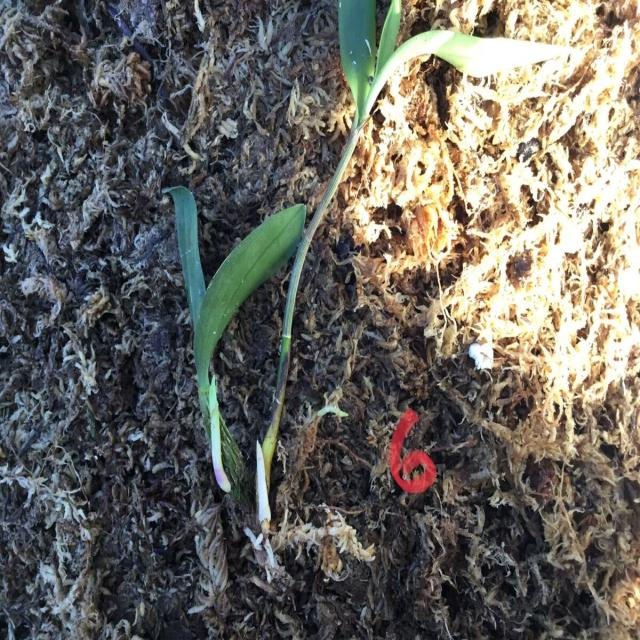leaf: (194, 204, 305, 357), (379, 31, 564, 90), (341, 1, 376, 125), (174, 188, 204, 312), (374, 0, 401, 78)
root: (244, 505, 374, 580)
stem: (257, 124, 359, 532), (202, 371, 238, 497)
